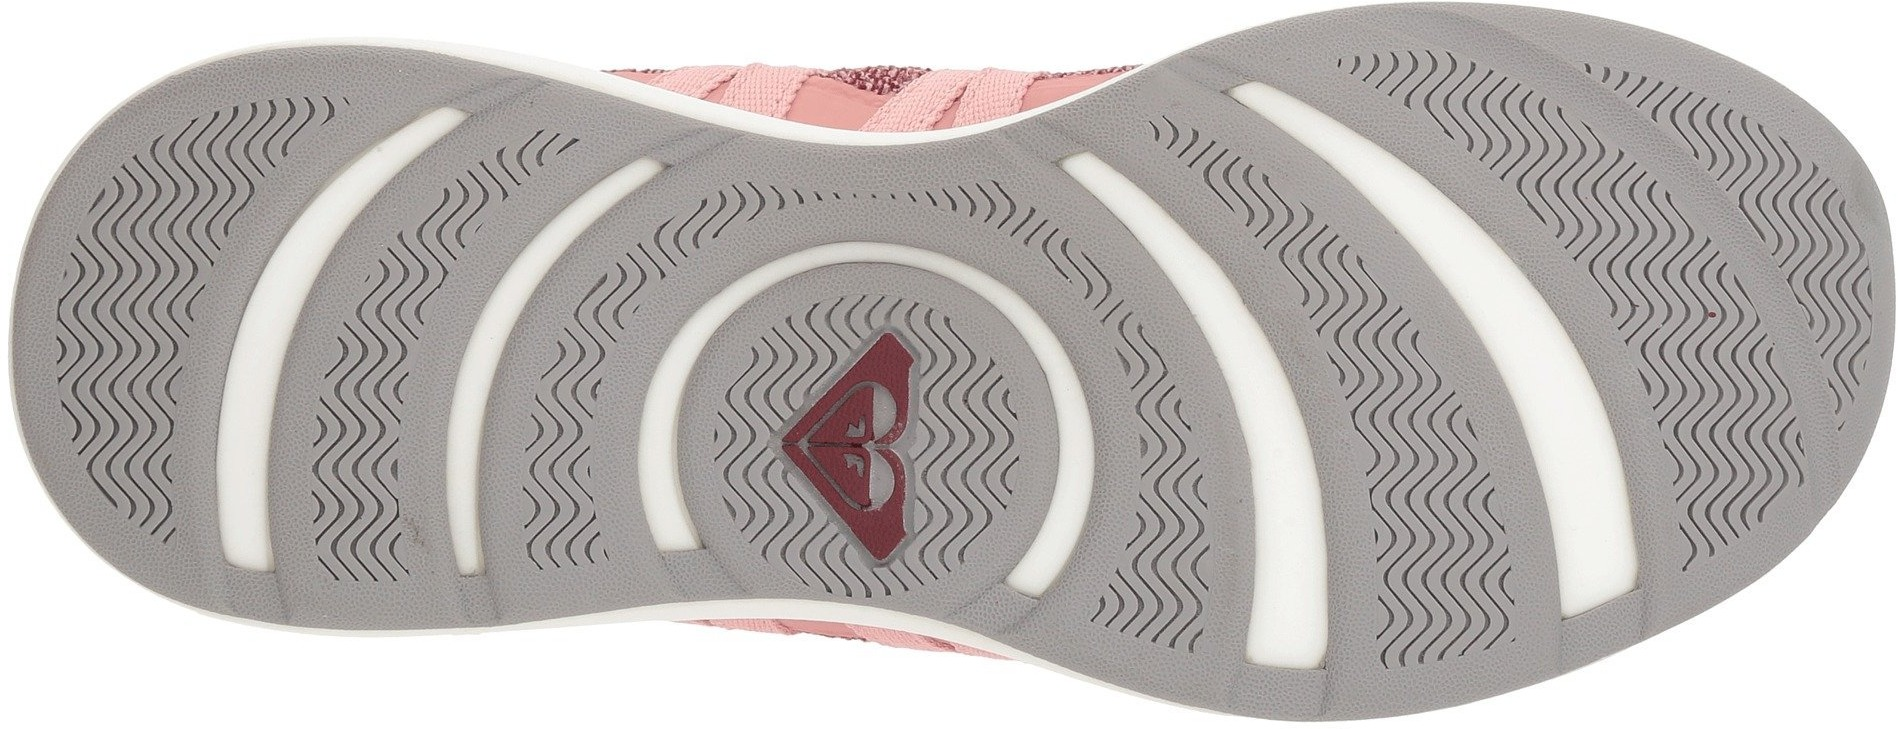chevron: (1532, 122, 1801, 318), (1348, 484, 1520, 679), (54, 226, 226, 401), (1647, 337, 1804, 517)
